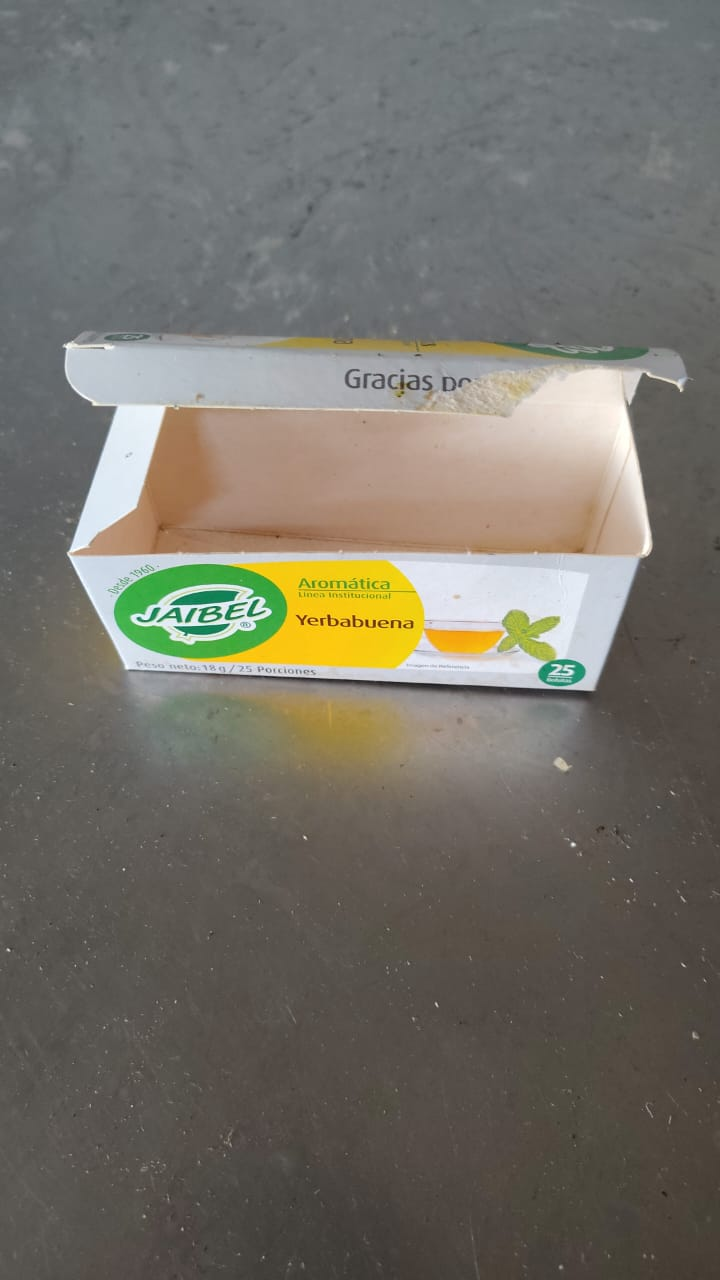Carton: (62, 334, 657, 703)
